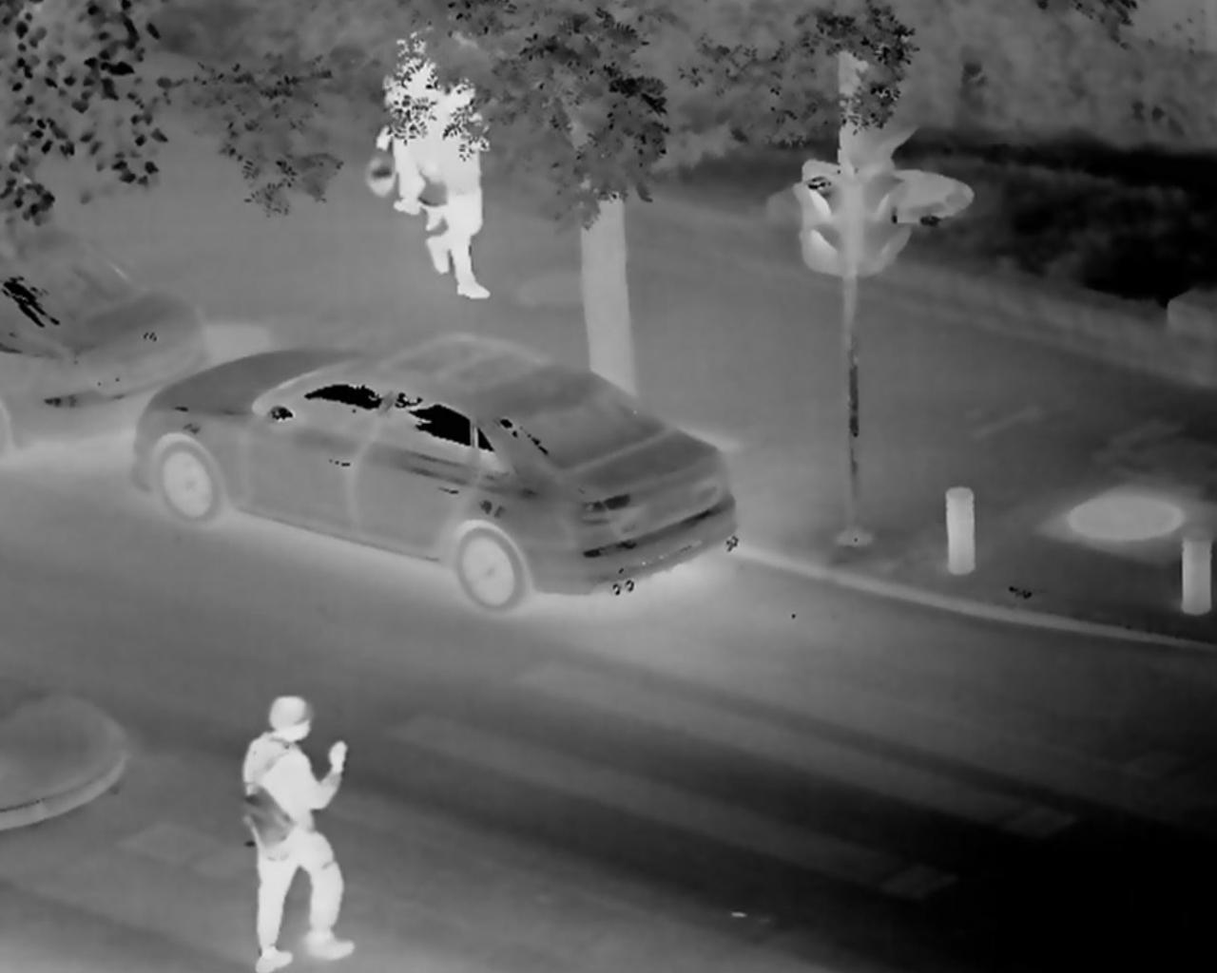person: (372, 16, 498, 306), (237, 688, 362, 973)
